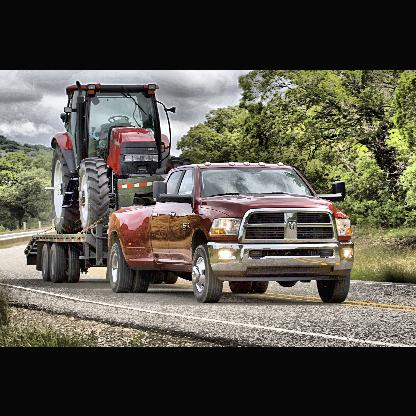Dodge Ram Pickup 3500 Crew Cab 2010: (24, 160, 357, 305)
